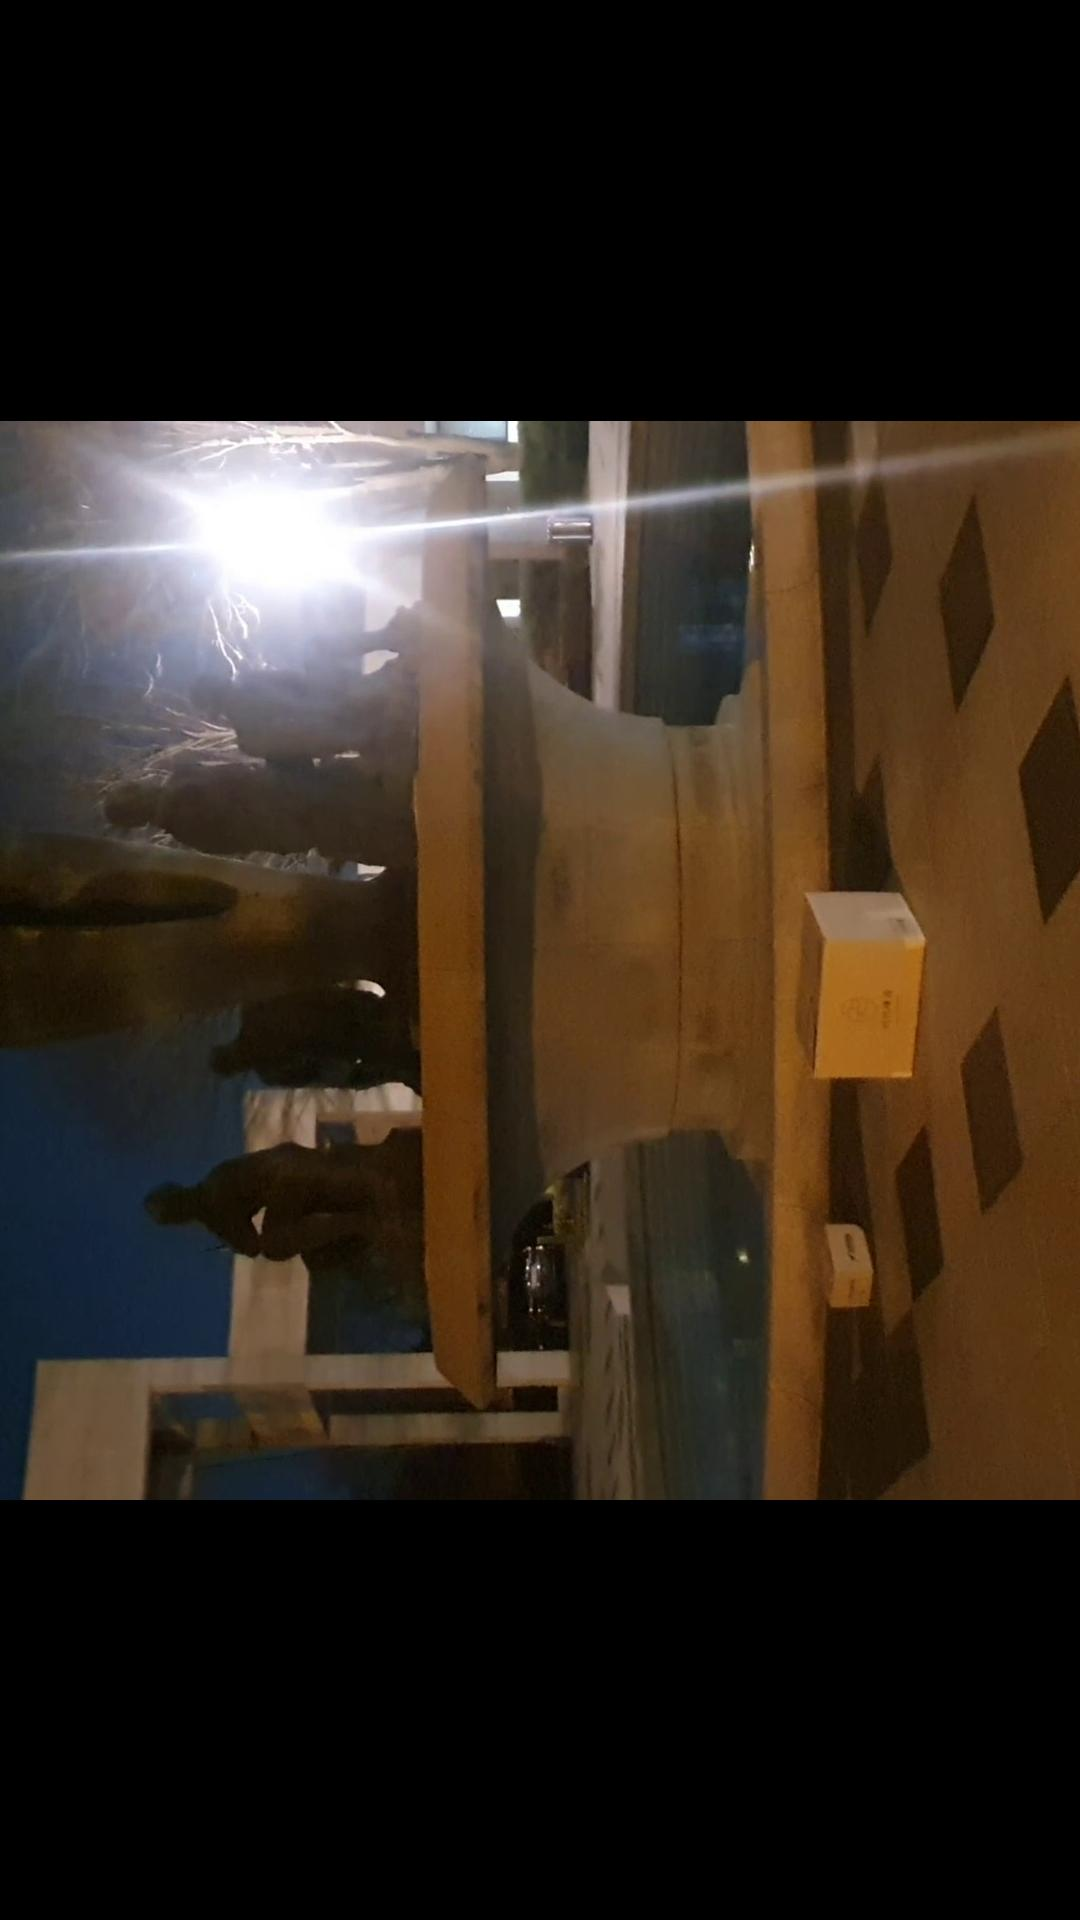Box: (775, 860, 942, 1098), (814, 1197, 885, 1329)
